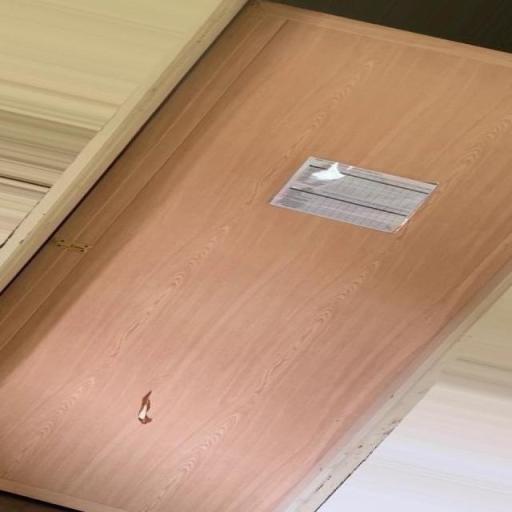door: (1, 0, 510, 511)
